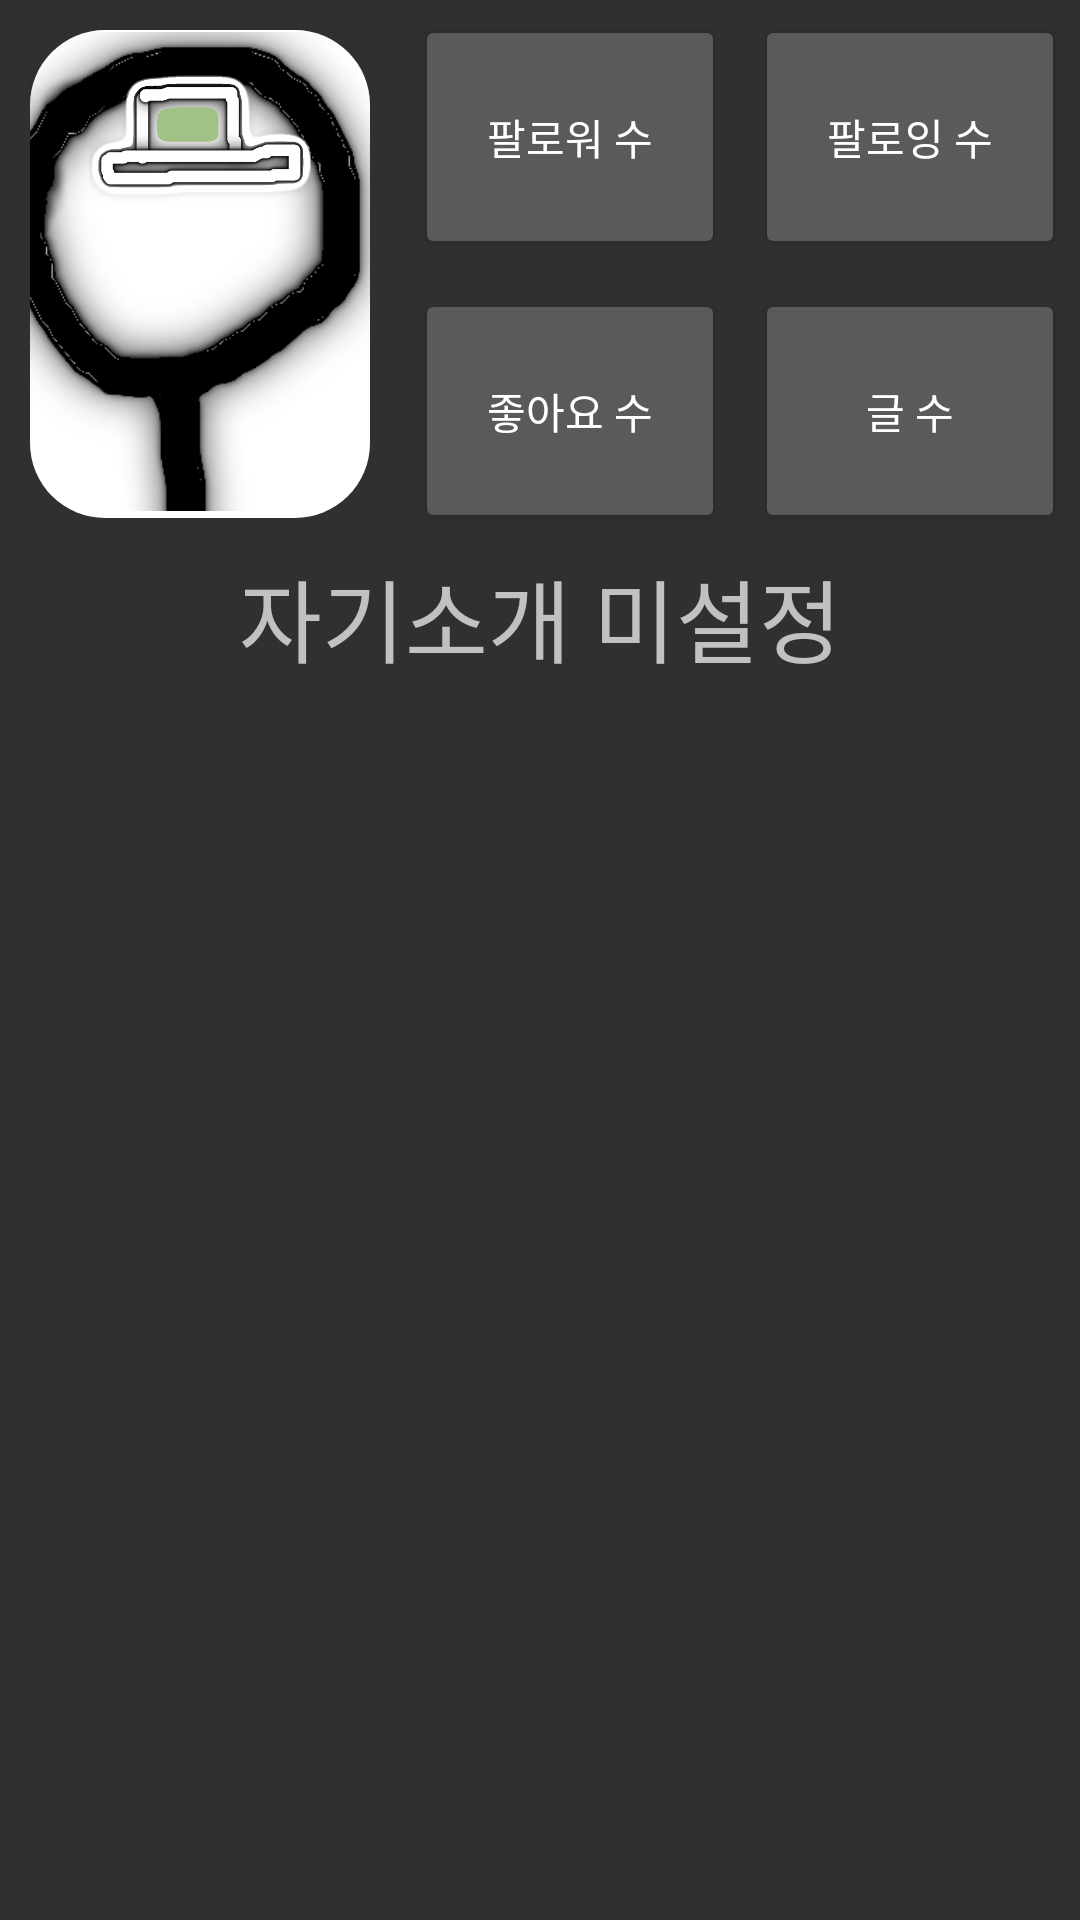

Screen size 1080 × 1920. Icon name, then its center in pixels as [x,y]:
samp hat: [200,140]
